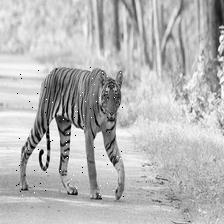tiger: (15, 65, 124, 200)
